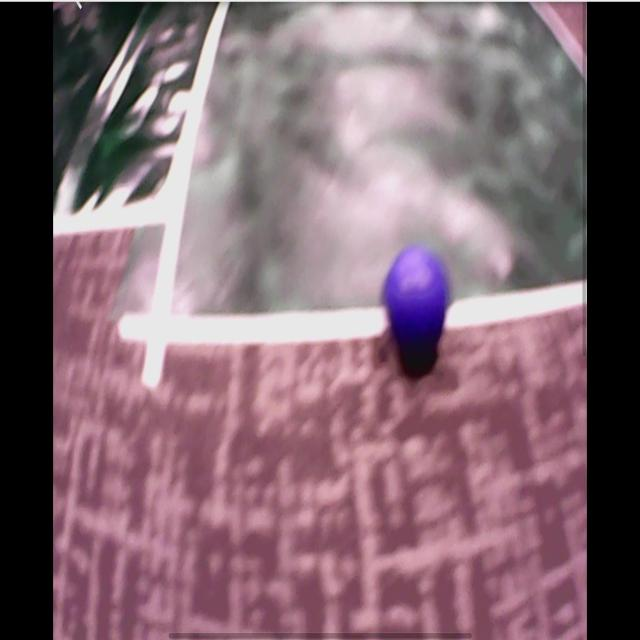ball: (385, 245, 449, 349)
